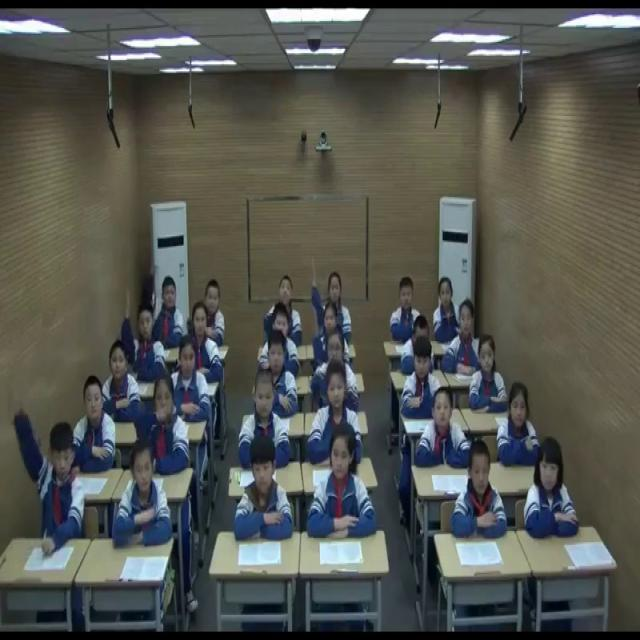focused: (308, 426, 377, 539), (111, 433, 172, 550), (236, 444, 294, 549), (524, 438, 581, 540), (310, 367, 362, 465), (416, 384, 473, 470), (455, 441, 505, 538), (240, 371, 288, 466), (147, 380, 190, 476), (311, 334, 358, 416), (75, 376, 115, 471), (170, 334, 212, 424), (501, 377, 542, 466), (261, 332, 301, 421), (402, 339, 444, 419), (105, 339, 141, 428), (470, 337, 509, 418), (445, 297, 482, 380), (190, 304, 224, 386), (265, 306, 300, 372), (389, 275, 423, 341), (429, 279, 463, 340), (274, 278, 304, 342), (316, 304, 346, 365), (202, 282, 225, 348)
raising_hand: (10, 390, 87, 556), (121, 289, 168, 379), (140, 260, 188, 348)
